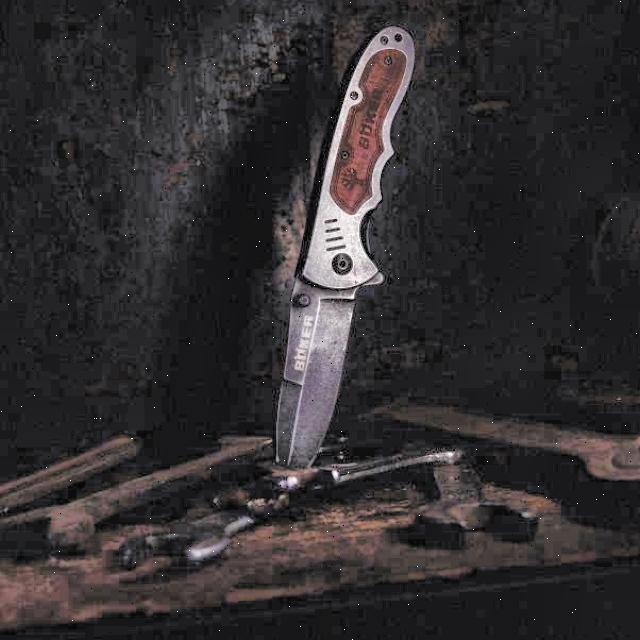knife: (260, 22, 426, 496)
